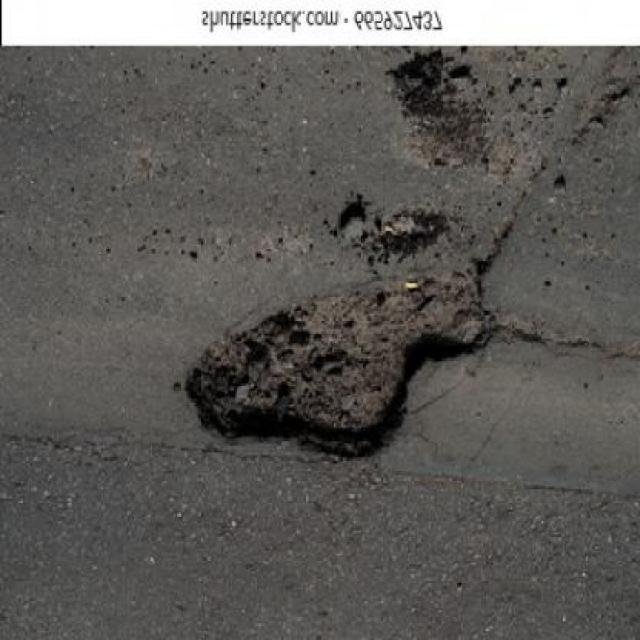pothole: (155, 224, 552, 490)
